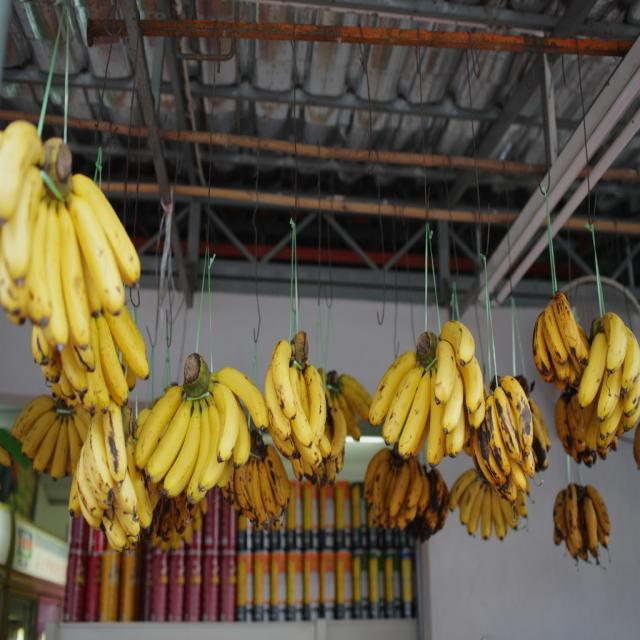Non_Gorille: (2, 0, 639, 640)
